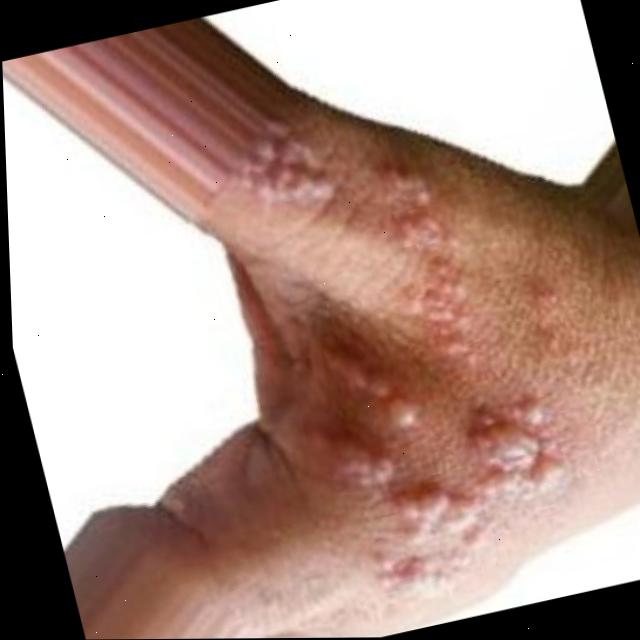Shingles: (326, 382, 607, 604), (382, 137, 493, 373), (309, 321, 419, 435), (229, 112, 338, 217)
